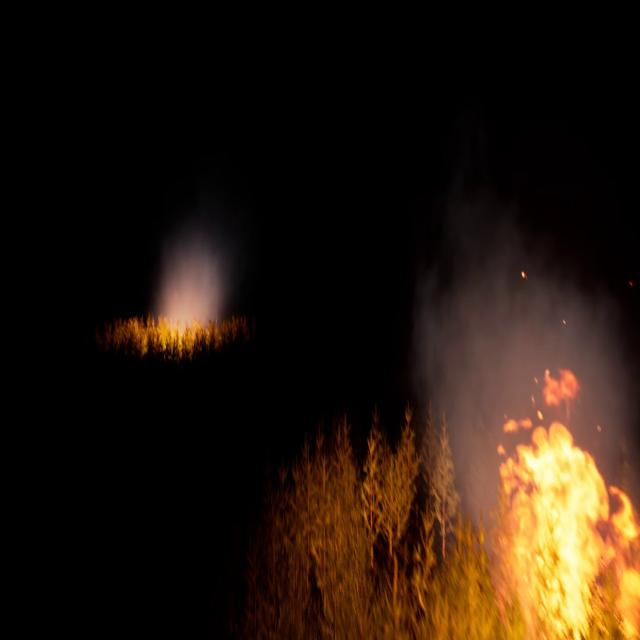fire: (498, 368, 640, 639)
smoke: (410, 195, 638, 556), (151, 225, 239, 337)
